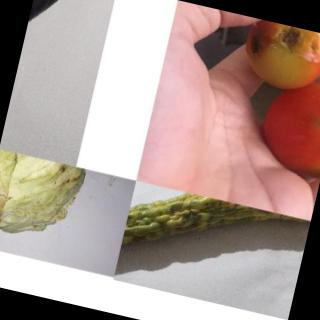Tomat: (211, 16, 320, 186)
